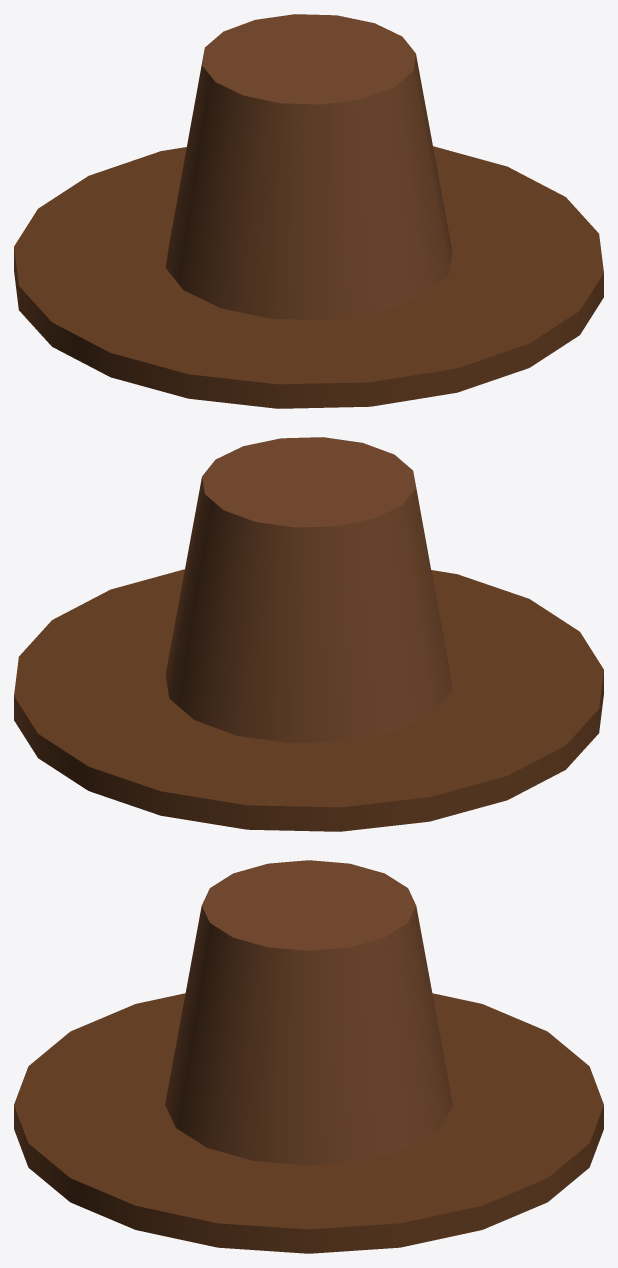
The model's file is hat-cowboy.glb.
The picture shows the model from 3 angles, top to bottom: view 1: azimuth 30°, elevation 25°; view 2: azimuth 150°, elevation 25°; view 3: azimuth 270°, elevation 25°; orthographic projection.
Parts seen in each view (by area): view 1: hat; view 2: hat; view 3: hat.
Part boxes in pixels (x1,y1,x2,y2): hat: (14, 14, 603, 408); hat: (14, 437, 603, 831); hat: (14, 860, 603, 1253).
Bounding box in the file's own units: 1.1 × 0.46 × 1.1.
